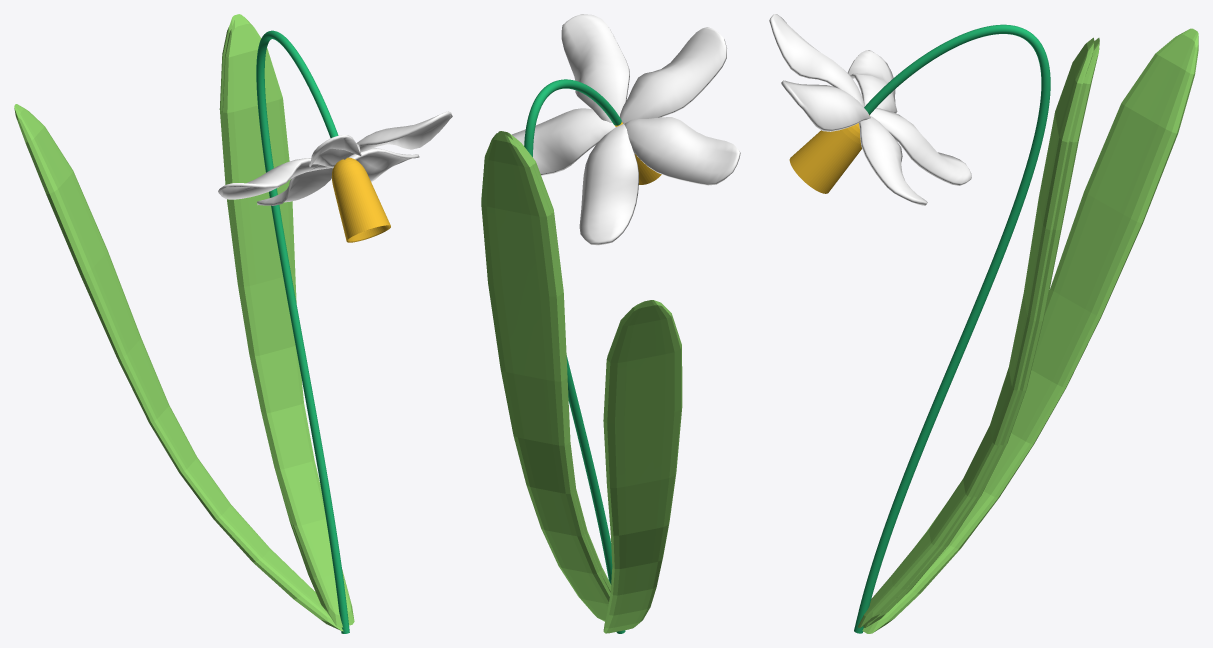
File: Dandofill.fbx
3 views of the same model, side by side, from view 1: azimuth 30°, elevation 25°; view 2: azimuth 150°, elevation 25°; view 3: azimuth 270°, elevation 25° (orthographic). The views are drawn at different scales.
Visible parts, largest first — view 1: Narciss_United; view 2: Narciss_United; view 3: Narciss_United.
Part boxes in pixels (x1,y1,x2,y2): Narciss_United: (14, 14, 452, 633); Narciss_United: (481, 14, 740, 633); Narciss_United: (769, 14, 1198, 633).
Size of the model in its own units: 30.46 by 58.23 by 37.35.
